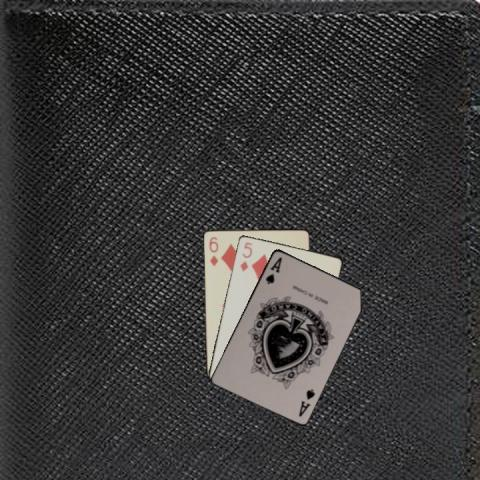5d: (238, 239, 254, 273)
6d: (206, 234, 219, 267)
As: (295, 386, 316, 418), (263, 253, 283, 286)
